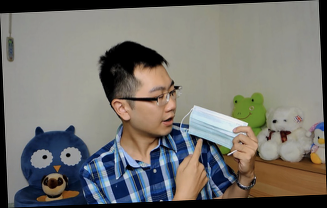without_mask: (130, 78, 178, 138)
